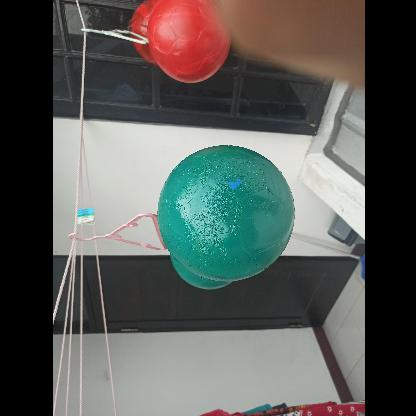green_ball: (154, 144, 292, 282)
